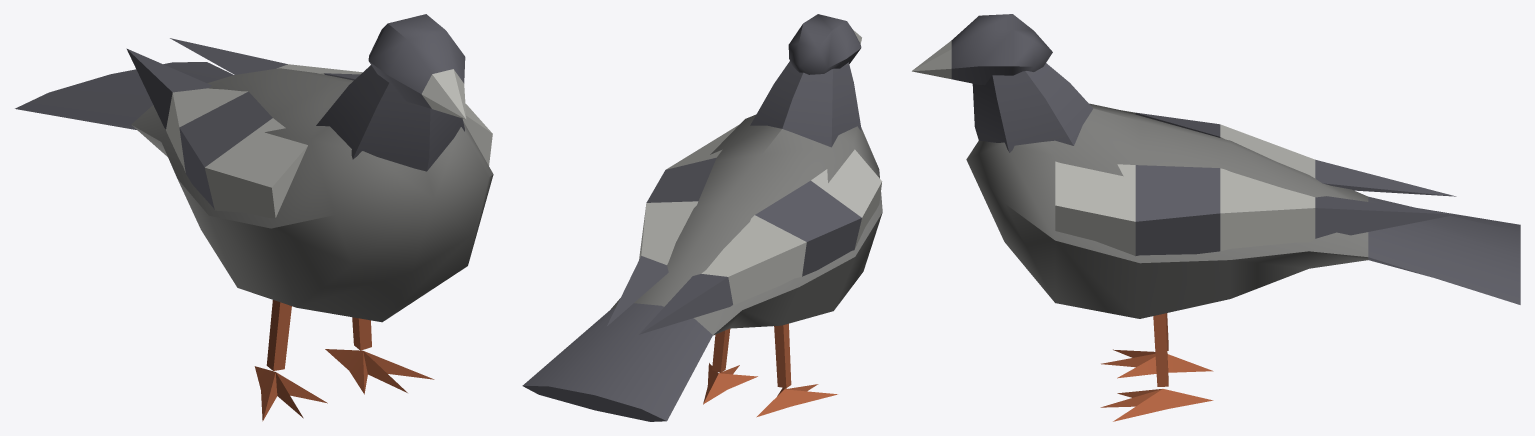
Rendered from paloma.glb.
3 renders of one model, left to right at view 1: azimuth 30°, elevation 25°; view 2: azimuth 150°, elevation 25°; view 3: azimuth 270°, elevation 25°, orthographic. The views are drawn at different scales.
Parts seen in each view (by area): view 1: paloma_cuerpo, pieza_cabeza, pieza_ala_der, pieza_ala_izq; view 2: paloma_cuerpo, pieza_ala_der, pieza_cabeza, pieza_ala_izq; view 3: paloma_cuerpo, pieza_ala_izq, pieza_cabeza, pieza_ala_der.
Boxes of the visible parts, left/top/right/bottom form: paloma_cuerpo: left=15, top=62, right=493, bottom=421; pieza_cabeza: left=316, top=14, right=466, bottom=171; pieza_ala_der: left=126, top=48, right=307, bottom=218; pieza_ala_izq: left=170, top=38, right=492, bottom=165; paloma_cuerpo: left=522, top=114, right=882, bottom=421; pieza_ala_der: left=639, top=149, right=882, bottom=334; pieza_cabeza: left=750, top=14, right=861, bottom=147; pieza_ala_izq: left=607, top=124, right=739, bottom=325; paloma_cuerpo: left=966, top=103, right=1520, bottom=421; pieza_ala_izq: left=1055, top=161, right=1456, bottom=256; pieza_cabeza: left=912, top=14, right=1093, bottom=152; pieza_ala_der: left=1107, top=108, right=1456, bottom=196.
Bounding box in the file's own units: 0.1222 × 0.1897 × 0.288.
